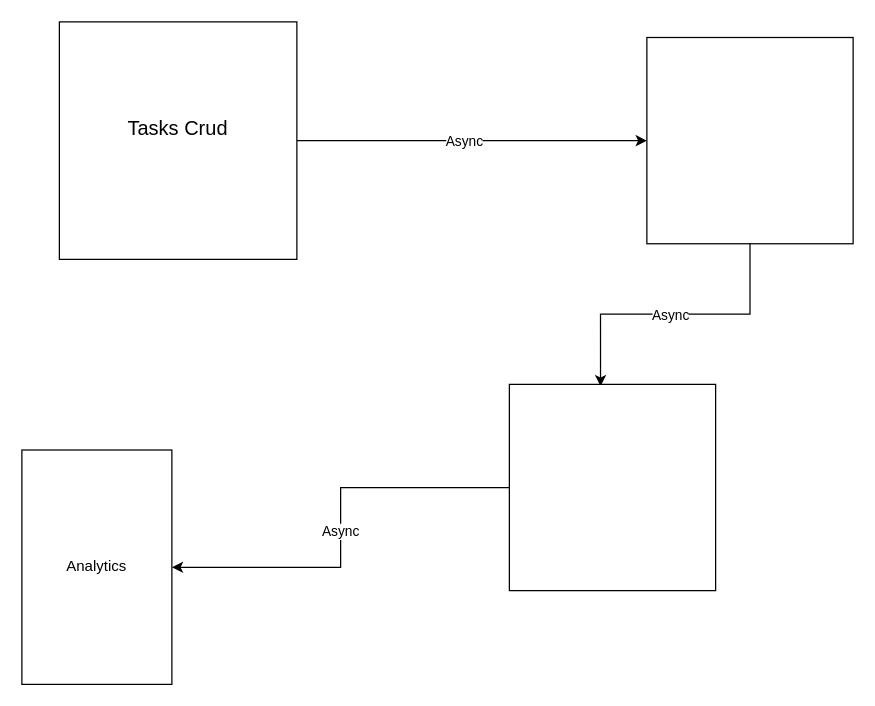
The diagram is 875 pixels wide and 706 high, and some of its shapes have lost their labels. Here are the shapes that lost their labels. From the top down, the box of each, then its label:
(646, 36, 853, 244): Tasks Processor
(508, 383, 716, 591): Accounting Accounts, Transactions
